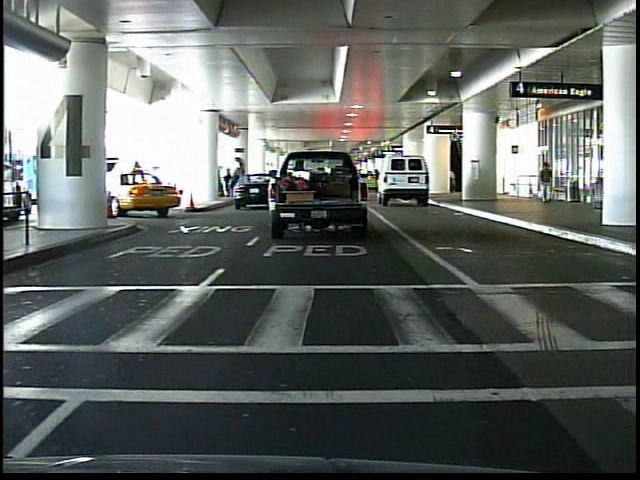person: (534, 156, 555, 208), (446, 164, 460, 197)
